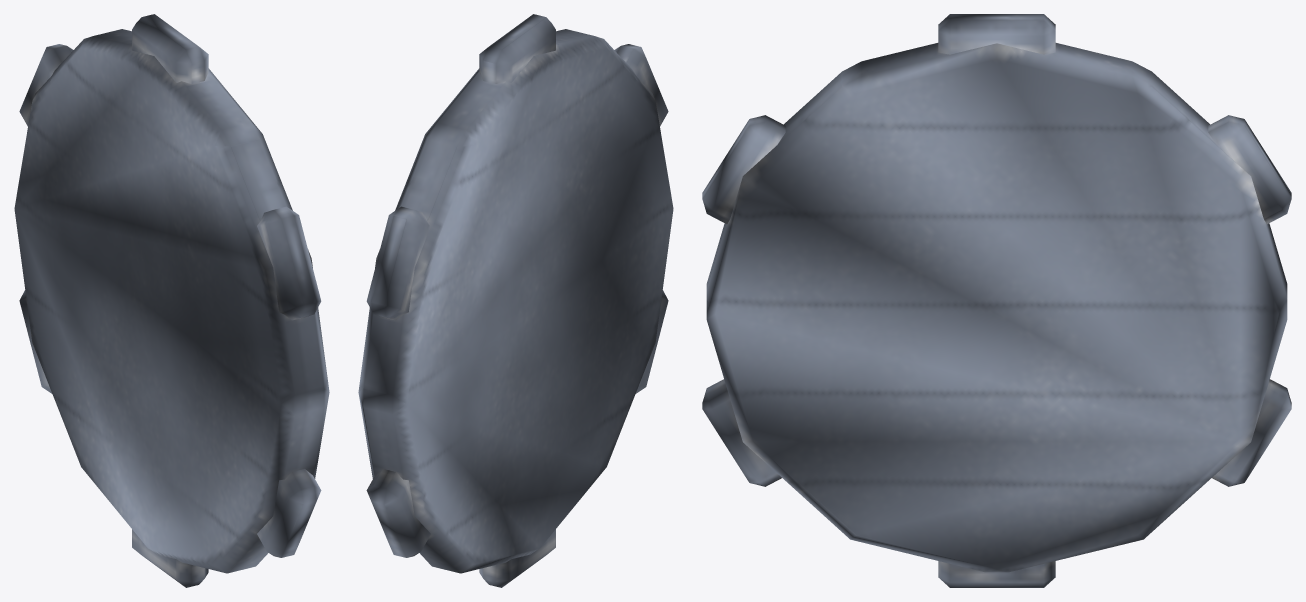
The model's file is Rueda_Llanta.fbx.
3 views of the same model, side by side, from view 1: azimuth 30°, elevation 25°; view 2: azimuth 150°, elevation 25°; view 3: azimuth 270°, elevation 25° (orthographic). The views are drawn at different scales.
Visible parts, largest first — view 1: Rueda_Llanta; view 2: Rueda_Llanta; view 3: Rueda_Llanta.
Part boxes in pixels (bbox=[...]): Rueda_Llanta: bbox=[14, 14, 329, 587]; Rueda_Llanta: bbox=[358, 14, 673, 587]; Rueda_Llanta: bbox=[702, 14, 1291, 587].
Size of the model in its own units: 0.15 by 1.6 by 1.51.
